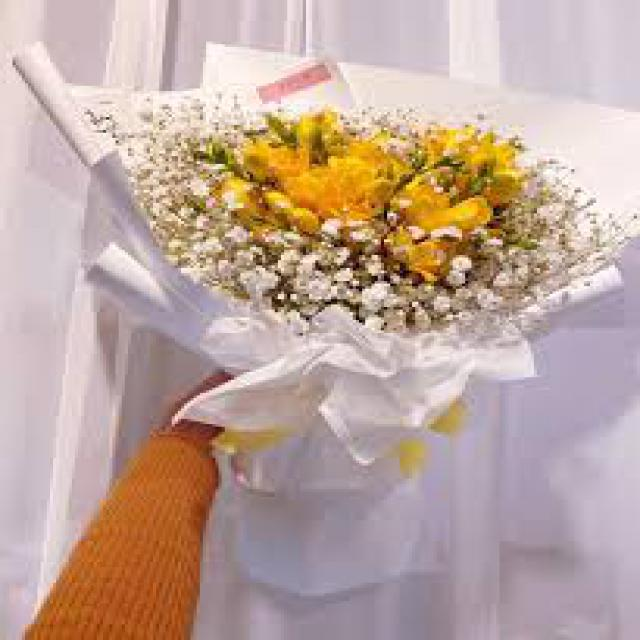freesia: (219, 137, 397, 219), (397, 164, 486, 233)
gypsophila: (219, 228, 474, 320), (90, 68, 217, 245), (527, 146, 632, 307)
